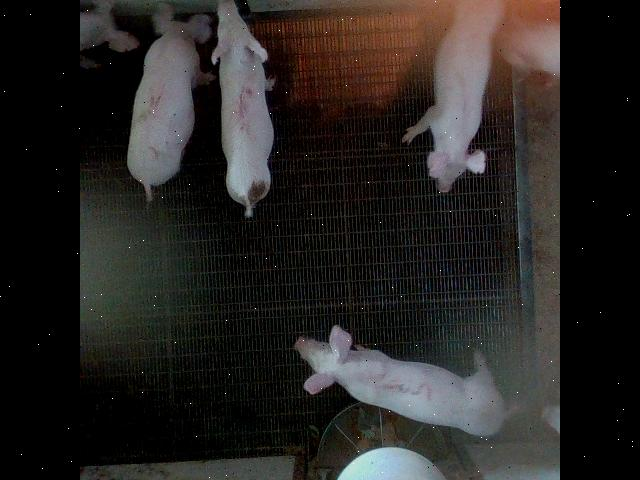pig-3: (295, 325, 505, 435)
pig-5: (211, 0, 274, 216)
